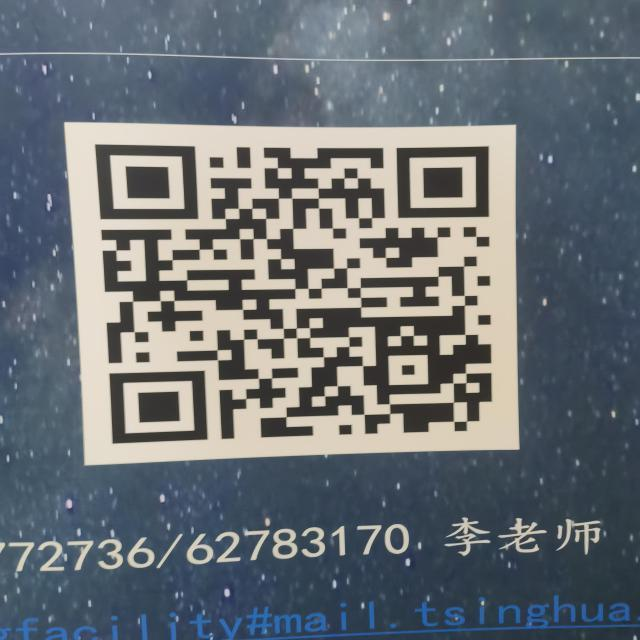qr_code: (96, 144, 493, 445)
